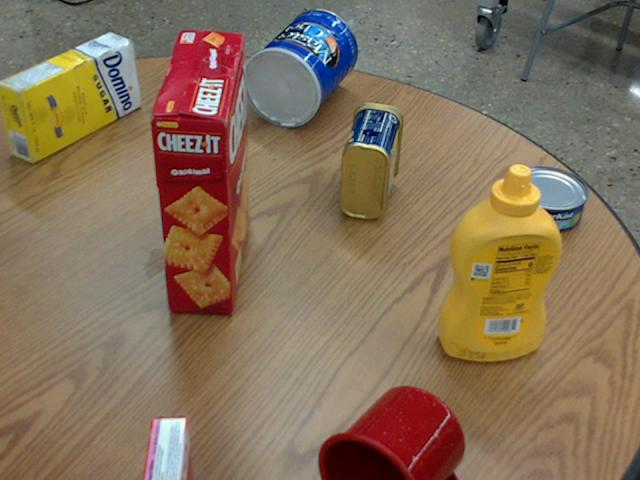cracker_box: (152, 30, 249, 312)
gelatin_box: (138, 416, 190, 479)
master_chef_can: (241, 8, 356, 125)
mug: (316, 387, 463, 479)
mustard_bottle: (436, 164, 560, 360)
potted_meat_can: (339, 102, 402, 218)
sugar_box: (0, 31, 139, 161)
tuna_fish_can: (505, 165, 585, 232)
